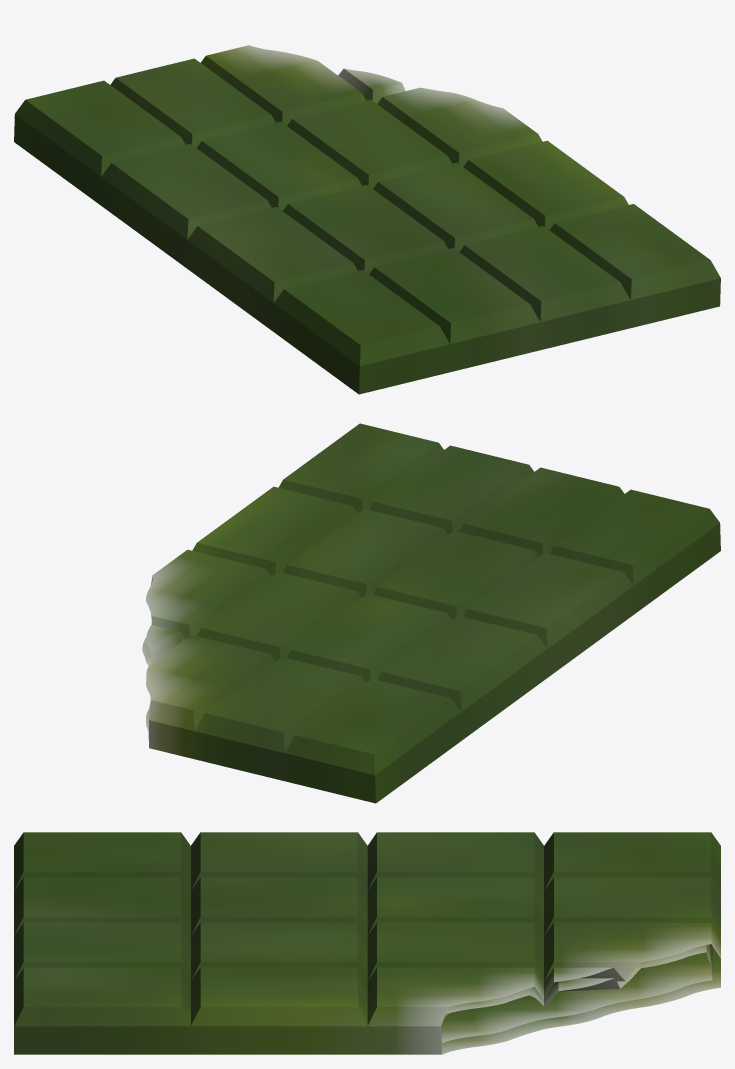
Rendered from PLF0110153.fbx.
3 views of the same model, one above another, from view 1: azimuth 30°, elevation 25°; view 2: azimuth 150°, elevation 25°; view 3: azimuth 270°, elevation 25° (orthographic). The views are drawn at different scales.
Parts seen in each view (by area): view 1: smPLF0110153; view 2: smPLF0110153; view 3: smPLF0110153.
Boxes of the visible parts, left/top/right/bottom form: smPLF0110153: left=14, top=45, right=720, bottom=394; smPLF0110153: left=142, top=423, right=720, bottom=803; smPLF0110153: left=14, top=832, right=720, bottom=1054.
Size of the model in its own units: 163 by 18.96 by 269.
